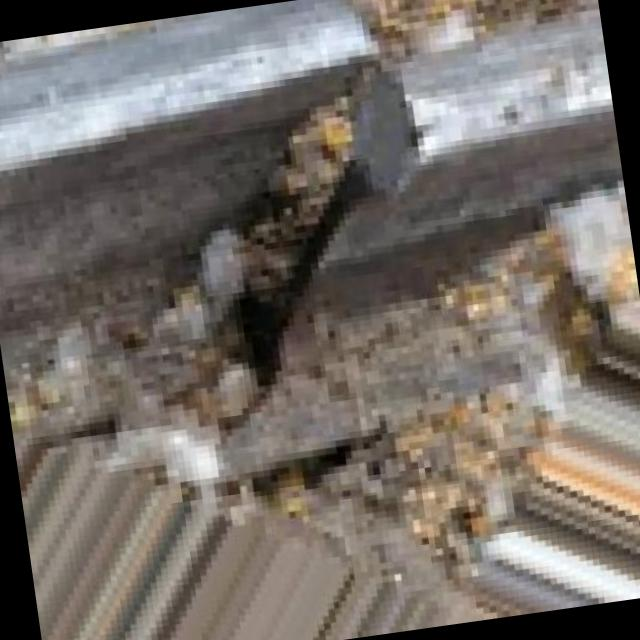defective: (0, 0, 631, 618)
